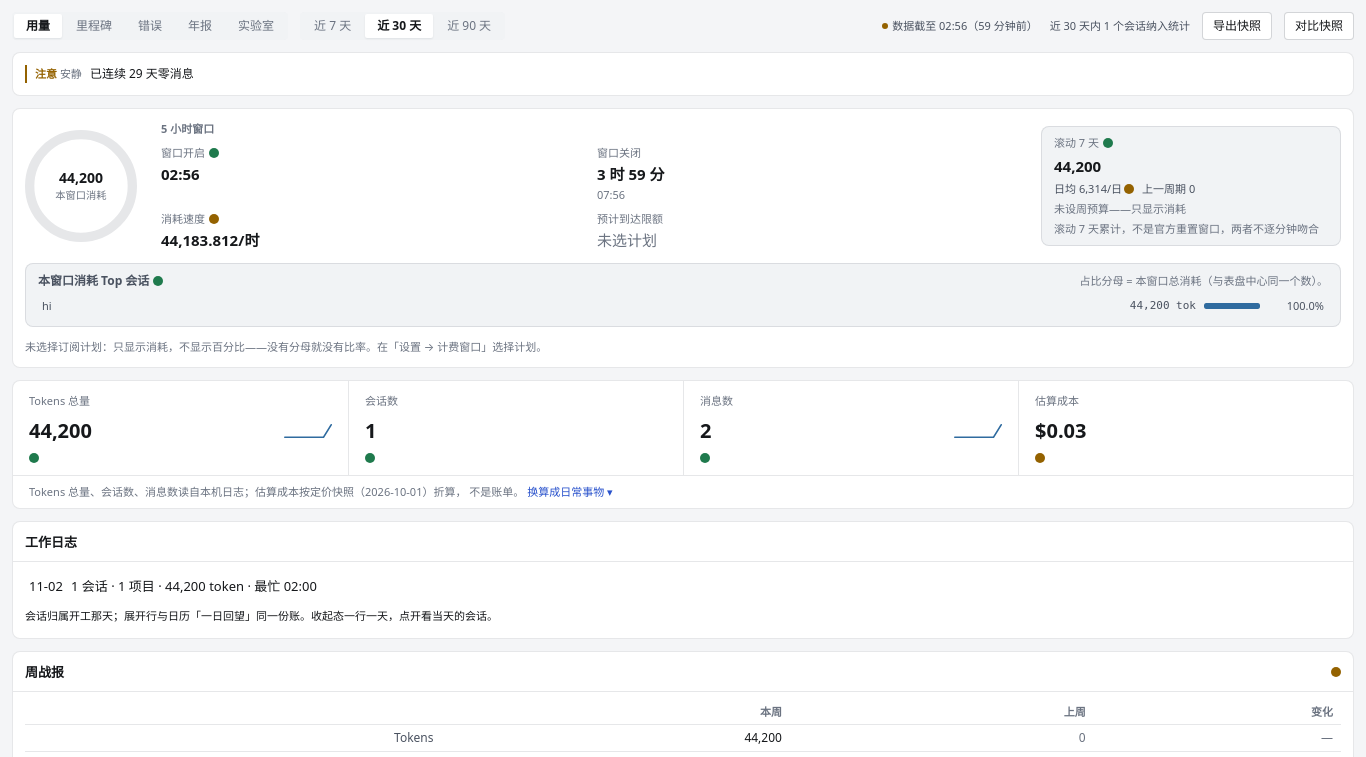
UsageOverviewPage › 实验室档（Round II）：十四张卡都在、区间控件保留、进度行写明 14 个视角
Click the tab "实验室" at (256, 26), box [226,14,286,38]
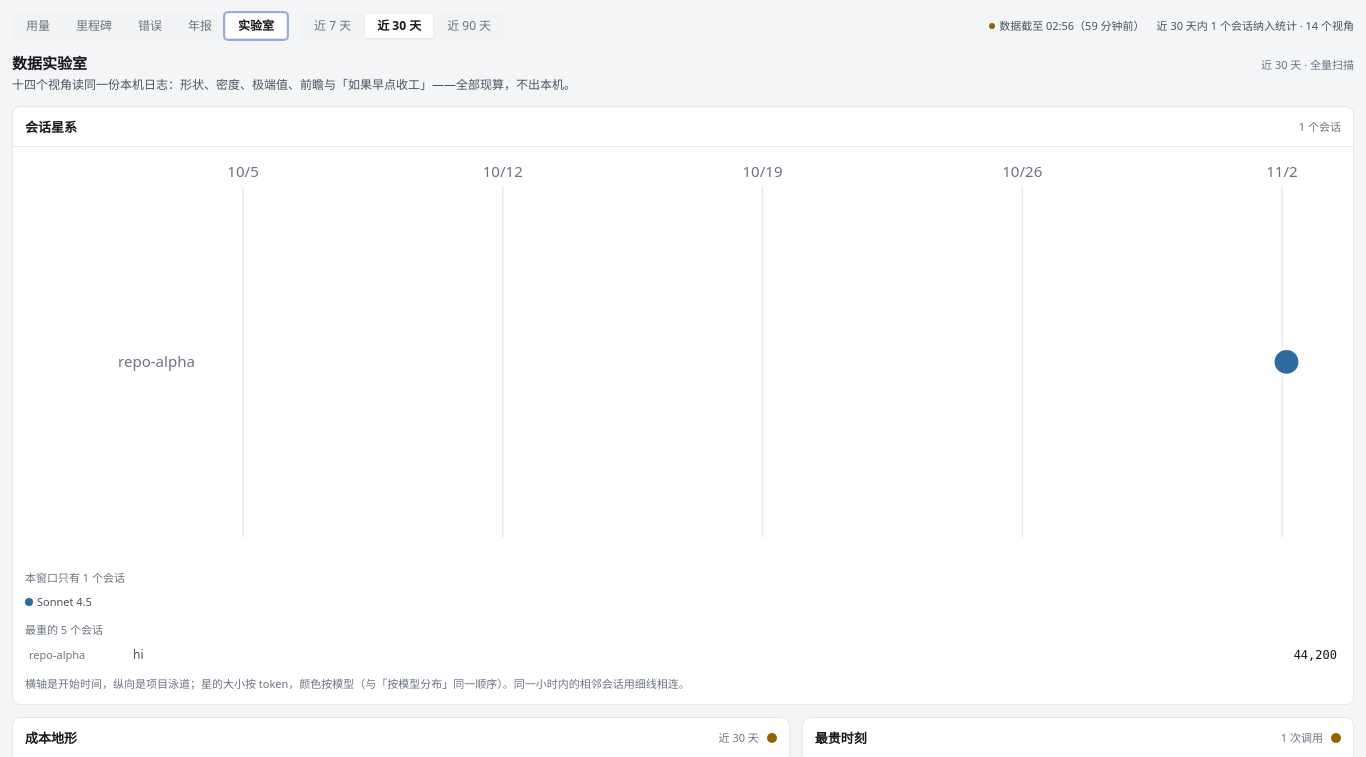
Expected: the element named "时间范围" is shown, [300,12,505,40]
Expected: the text "近 30 天内 1 个会话纳入统计 · 14 个视角" is shown, [1157,18,1354,34]
